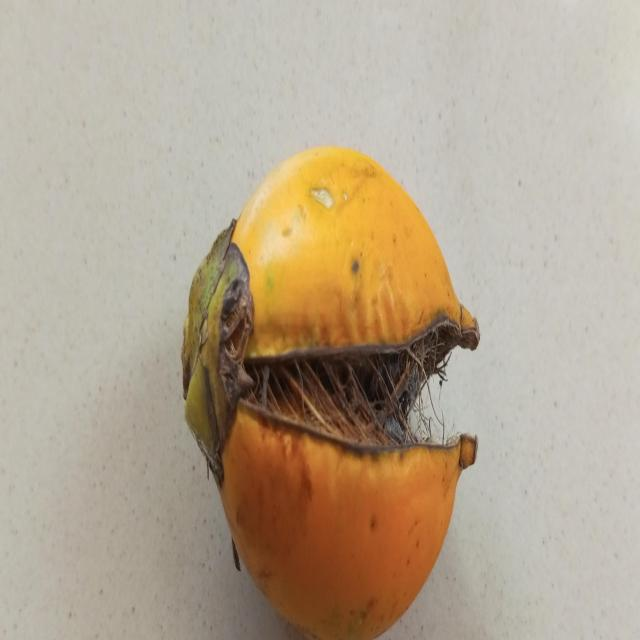damaged: (181, 147, 480, 640)
